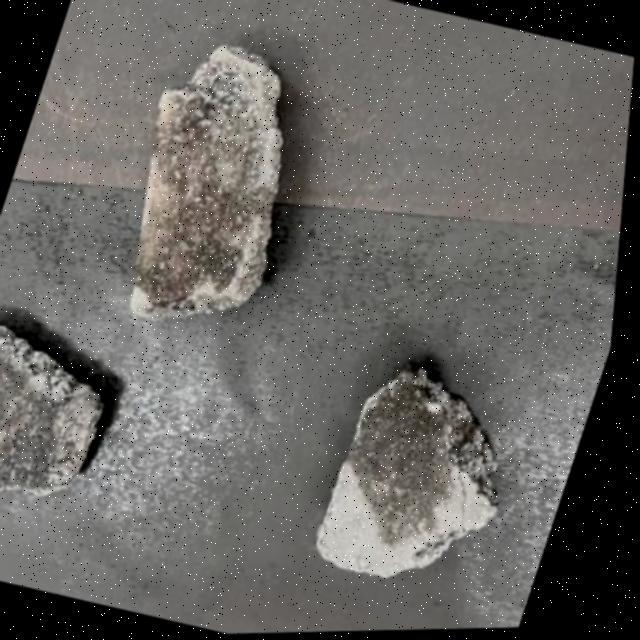Road Debris: (97, 39, 305, 332), (326, 364, 486, 558), (0, 320, 107, 508)
